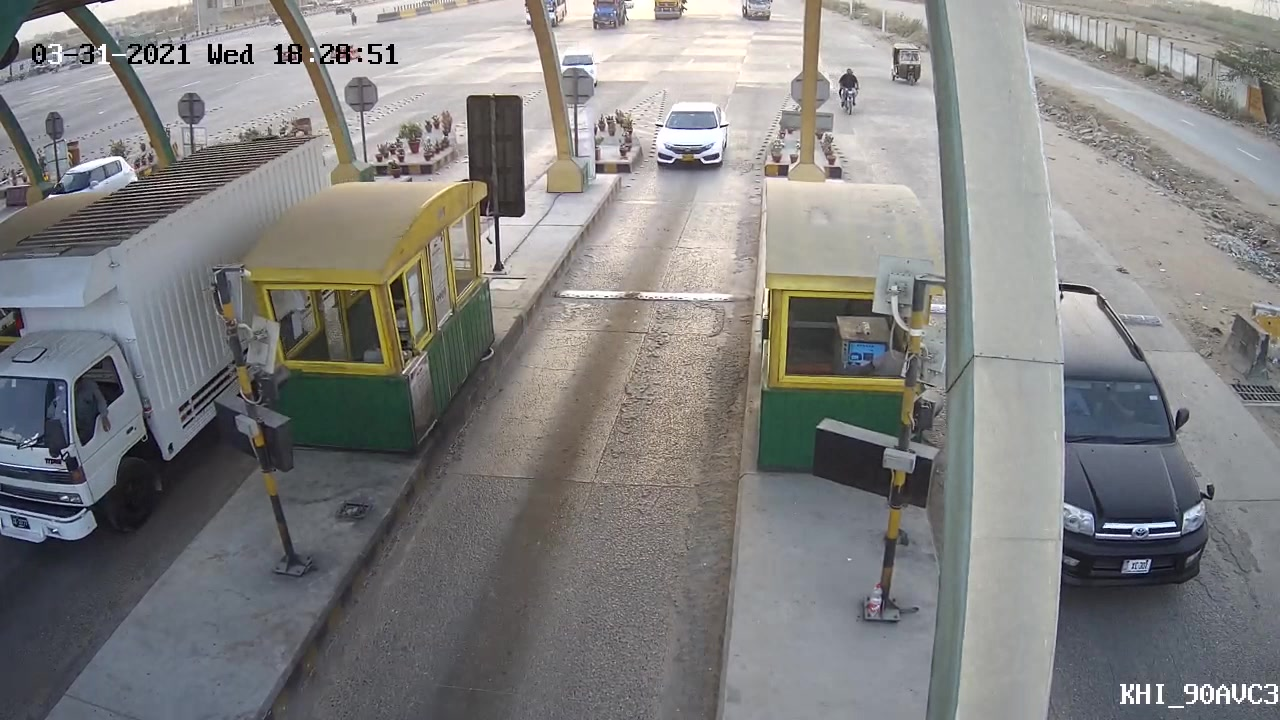F1: (641, 88, 738, 173)
